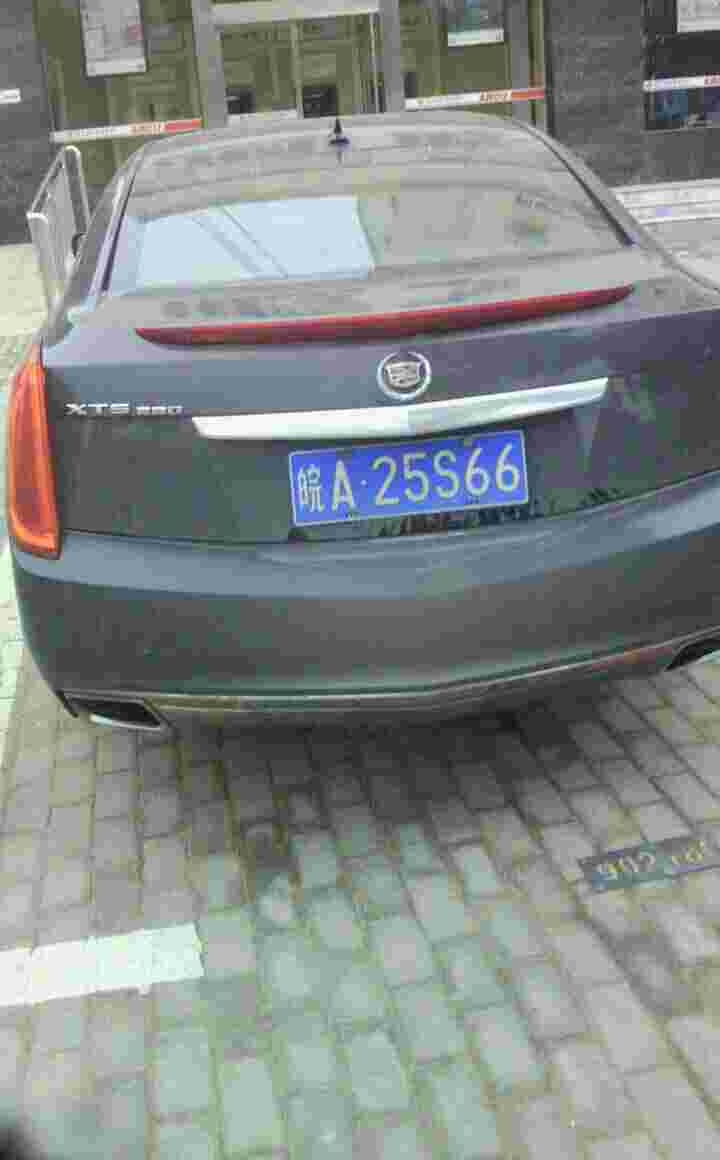license_plate: (302, 436, 540, 522)
